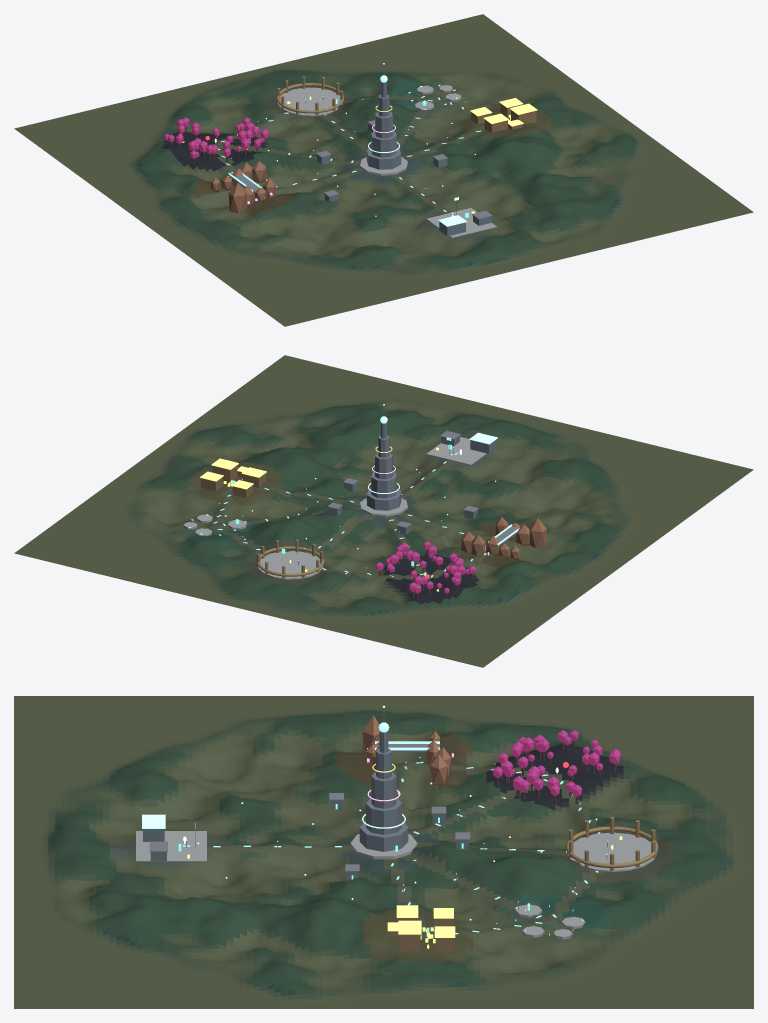
File: world.glb
The picture shows the model from 3 angles, top to bottom: view 1: azimuth 30°, elevation 25°; view 2: azimuth 150°, elevation 25°; view 3: azimuth 270°, elevation 25°; orthographic projection. The views are drawn at different scales.
Visible parts, largest first — view 1: TERRAIN, ARENA_floor, BOOT_plaza, SPIRE_shaft_1; view 2: TERRAIN, ARENA_floor, BOOT_plaza, SPIRE_shaft_1; view 3: TERRAIN, ARENA_floor, BOOT_plaza, SPIRE_shaft_1, SPIRE_shaft_0, ARENA_ring, SPIRE_shaft_2, SPIRE_plinth.
Part boxes in pixels (left/top/right/bottom): TERRAIN: left=14, top=14, right=753, bottom=326; ARENA_floor: left=277, top=87, right=342, bottom=116; BOOT_plaza: left=426, top=208, right=496, bottom=237; SPIRE_shaft_1: left=371, top=131, right=396, bottom=157; TERRAIN: left=14, top=355, right=753, bottom=667; ARENA_floor: left=258, top=551, right=323, bottom=579; BOOT_plaza: left=426, top=437, right=486, bottom=464; SPIRE_shaft_1: left=371, top=472, right=396, bottom=498; TERRAIN: left=14, top=696, right=753, bottom=1008; ARENA_floor: left=567, top=832, right=657, bottom=872; BOOT_plaza: left=136, top=831, right=206, bottom=861; SPIRE_shaft_1: left=366, top=798, right=401, bottom=834; SPIRE_shaft_0: left=359, top=821, right=408, bottom=851; ARENA_ring: left=566, top=826, right=658, bottom=867; SPIRE_shaft_2: left=371, top=772, right=396, bottom=808; SPIRE_plinth: left=350, top=834, right=417, bottom=859.
Size of what is drawn, in the model's own units: 188 by 45.96 by 188.
